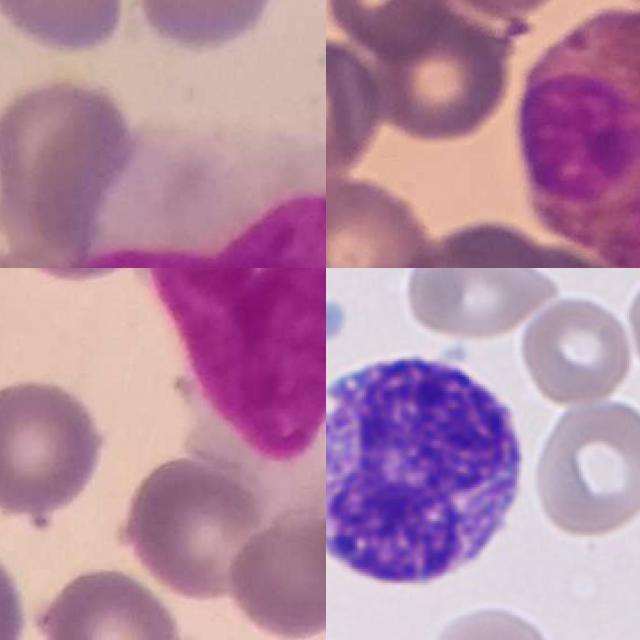Eosinophil: (518, 3, 640, 268)
Lymphocyte: (326, 341, 533, 599)
Monocyte: (149, 268, 326, 467), (81, 136, 326, 268)
Platelets: (326, 289, 351, 346)
RBC: (529, 392, 640, 540), (519, 293, 634, 407), (398, 268, 565, 345), (417, 601, 561, 640)
